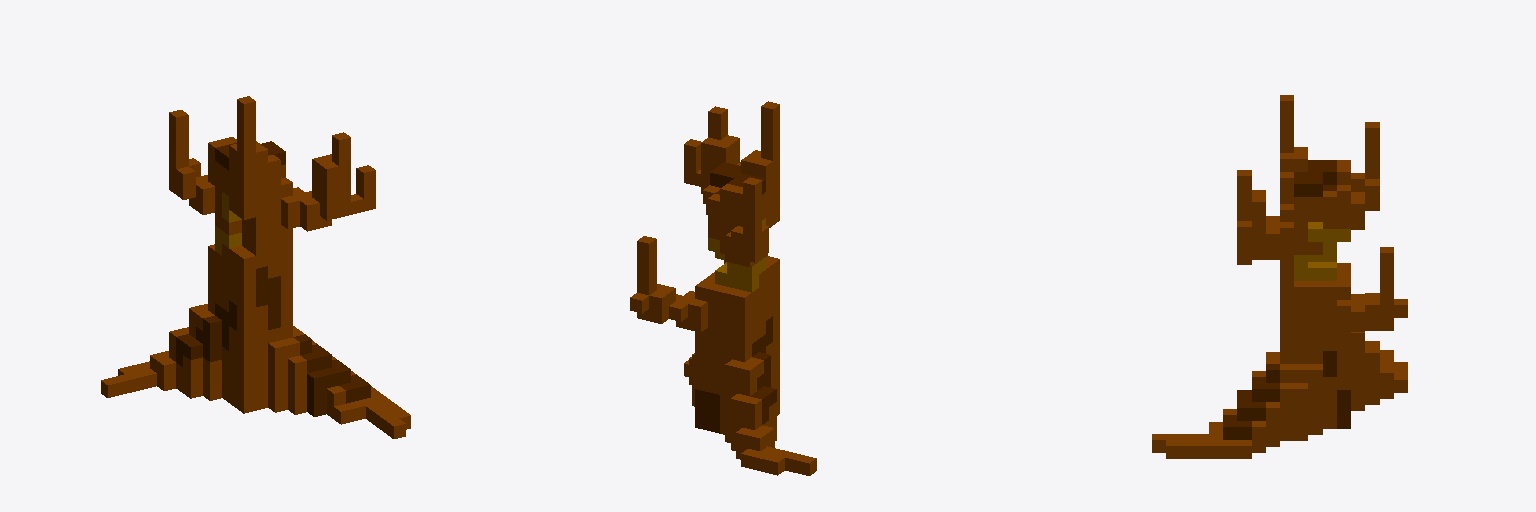
3 renders of one model, left to right at view 1: azimuth 30°, elevation 25°; view 2: azimuth 150°, elevation 25°; view 3: azimuth 270°, elevation 25°, orthographic.
Parts seen in each view (by area): view 1: deadTree04; view 2: deadTree04; view 3: deadTree04.
Boxes of the visible parts, x1=… form: deadTree04: x1=101, y1=96, x2=410, y2=438; deadTree04: x1=630, y1=101, x2=816, y2=475; deadTree04: x1=1152, y1=95, x2=1407, y2=458.
Size of the model in its own units: 16 by 24 by 18.
1 materials, 1 textured.